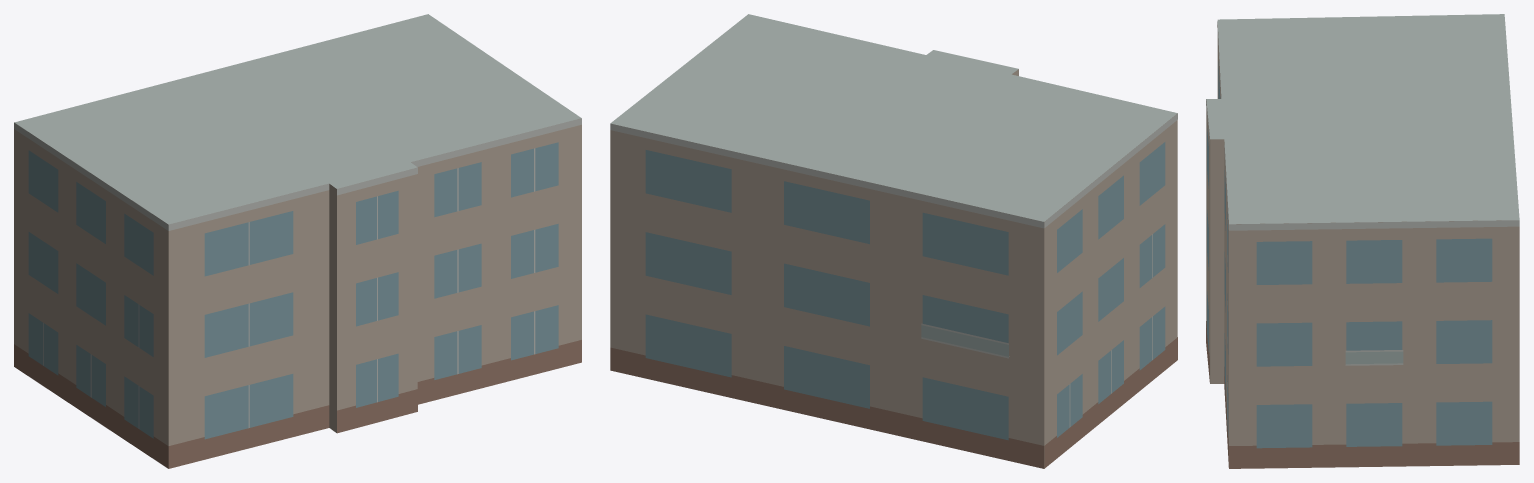
File: survey-upis-32837404.glb
3 renders of one model, left to right at view 1: azimuth 30°, elevation 25°; view 2: azimuth 150°, elevation 25°; view 3: azimuth 270°, elevation 25°, orthographic.
Parts seen in each view (by area): view 1: survey-upis-32837404.tmp; view 2: survey-upis-32837404.tmp; view 3: survey-upis-32837404.tmp.
Part boxes in pixels (left/top/right/bottom): survey-upis-32837404.tmp: left=14, top=14, right=581, bottom=468; survey-upis-32837404.tmp: left=610, top=14, right=1177, bottom=468; survey-upis-32837404.tmp: left=1206, top=14, right=1519, bottom=468.
Bounding box in the file's own units: 16.87 × 9.15 × 10.63.
